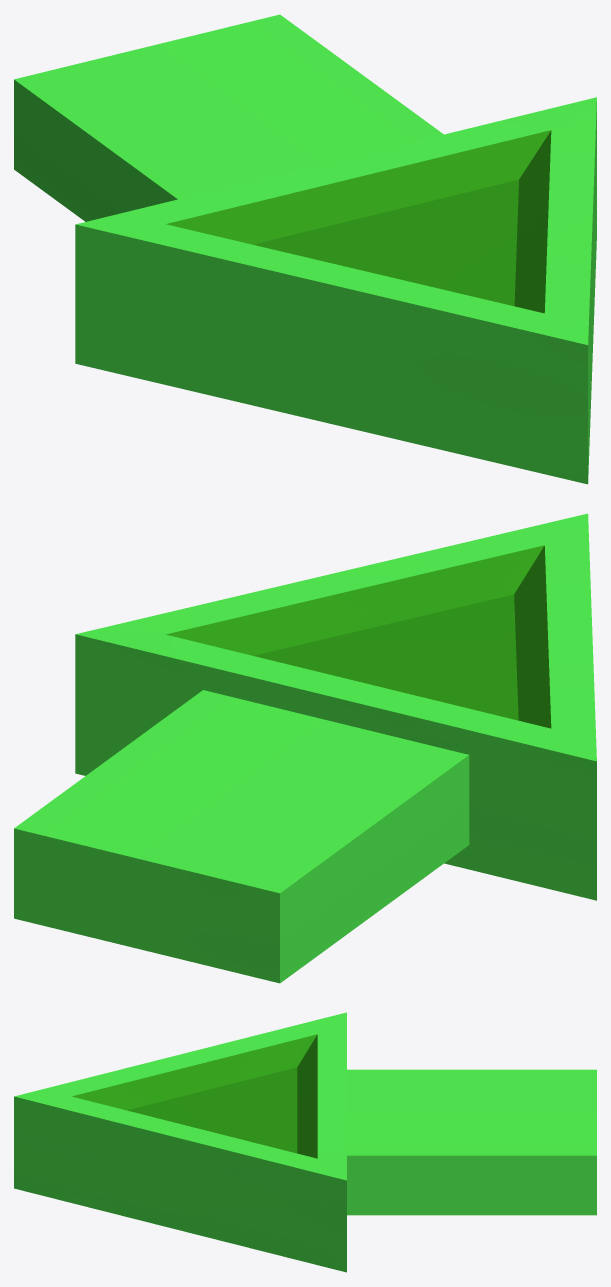
The model's file is Arrow.fbx.
3 renders of one model, top to bottom at view 1: azimuth 30°, elevation 25°; view 2: azimuth 150°, elevation 25°; view 3: azimuth 270°, elevation 25°, orthographic. The views are drawn at different scales.
Visible parts, largest first — view 1: Cube; view 2: Cube; view 3: Cube.
Boxes of the visible parts, bbox=[...] form: Cube: bbox=[14, 14, 596, 484]; Cube: bbox=[14, 513, 596, 983]; Cube: bbox=[14, 1012, 596, 1272].
Size of the model in its own units: 56.17 by 14.33 by 82.28.
